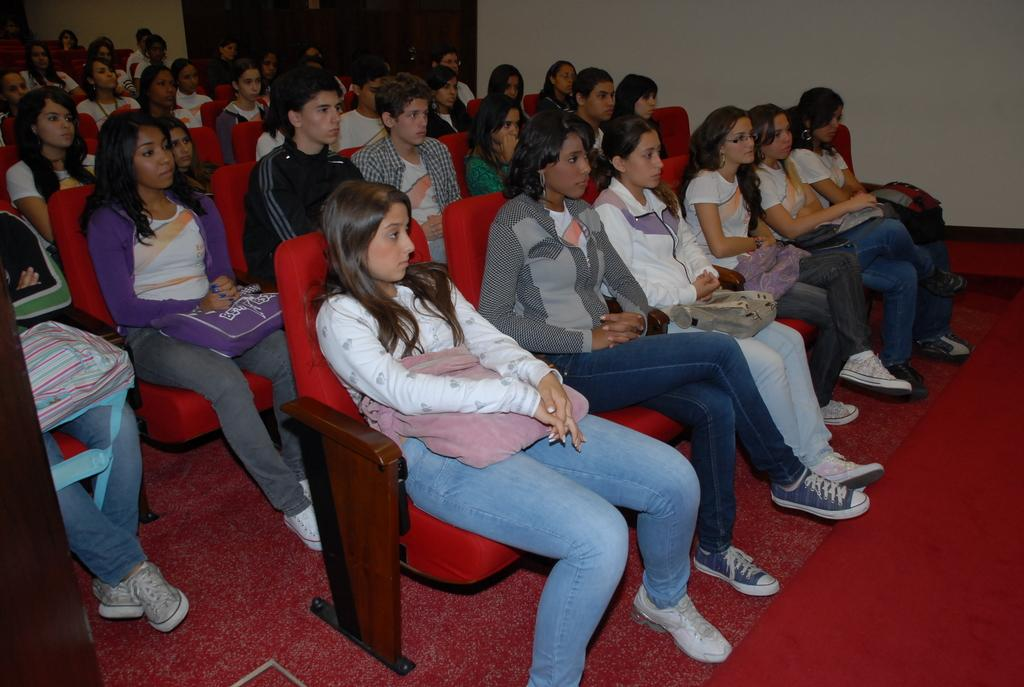Sem Máscara: (366, 201, 417, 277), (541, 129, 590, 195), (131, 123, 174, 187), (295, 87, 340, 144), (621, 130, 661, 187), (33, 97, 75, 147), (389, 95, 427, 145), (756, 116, 793, 161), (719, 117, 752, 164), (808, 105, 839, 144), (488, 106, 519, 143), (145, 70, 175, 108), (584, 80, 613, 119), (167, 124, 193, 162), (236, 66, 259, 101), (0, 72, 25, 103), (356, 77, 378, 110), (631, 90, 654, 120), (174, 64, 198, 92), (431, 78, 455, 106), (553, 64, 573, 94), (26, 43, 47, 71), (257, 50, 276, 80), (94, 62, 114, 89), (436, 53, 461, 71), (503, 76, 521, 99), (147, 39, 162, 63), (216, 43, 235, 61), (94, 44, 110, 58), (61, 32, 73, 45)
